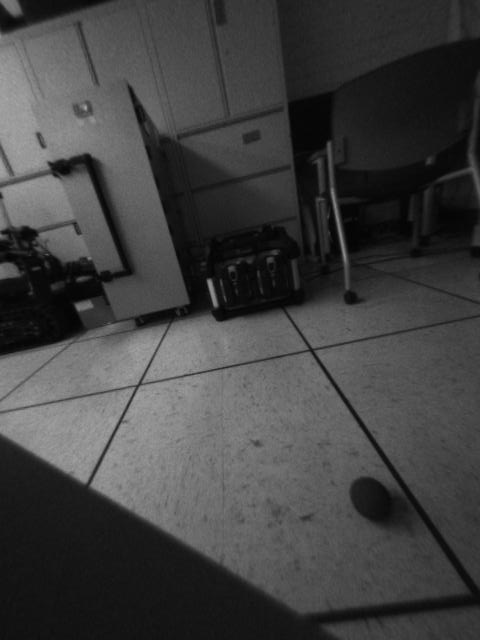dogtoy: (340, 467, 401, 529)
